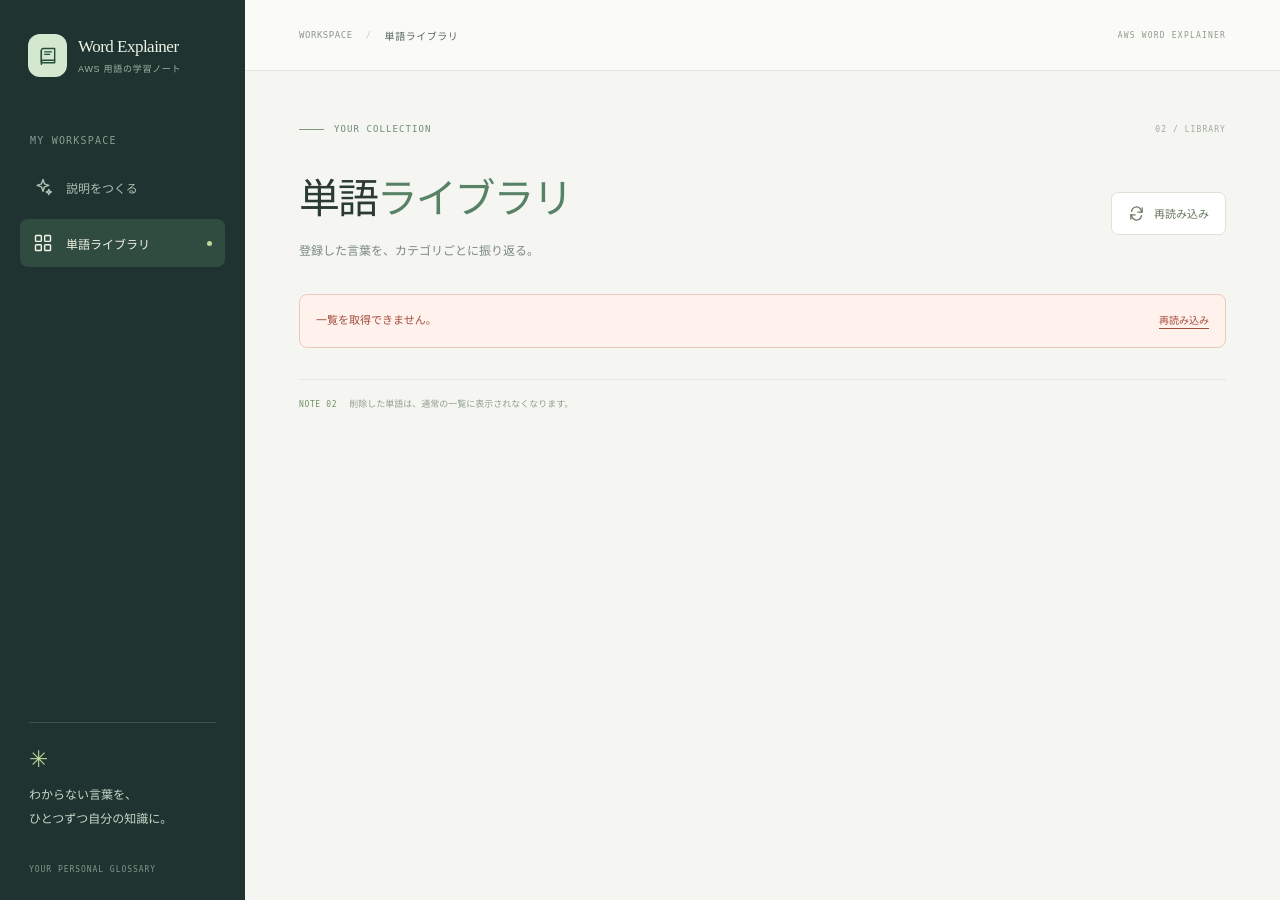
カテゴリ別一覧と削除 › 読み込み失敗と空データを区別し、再読み込みで復旧できる
This screenshot has width=1280, height=900.
Expected: the message shows "一覧を取得できません。", [316,314,437,326]
Click the button "再読み込み" in the row of "一覧を取得できません。". click: (1184, 321)
box: [1159,308,1209,334]
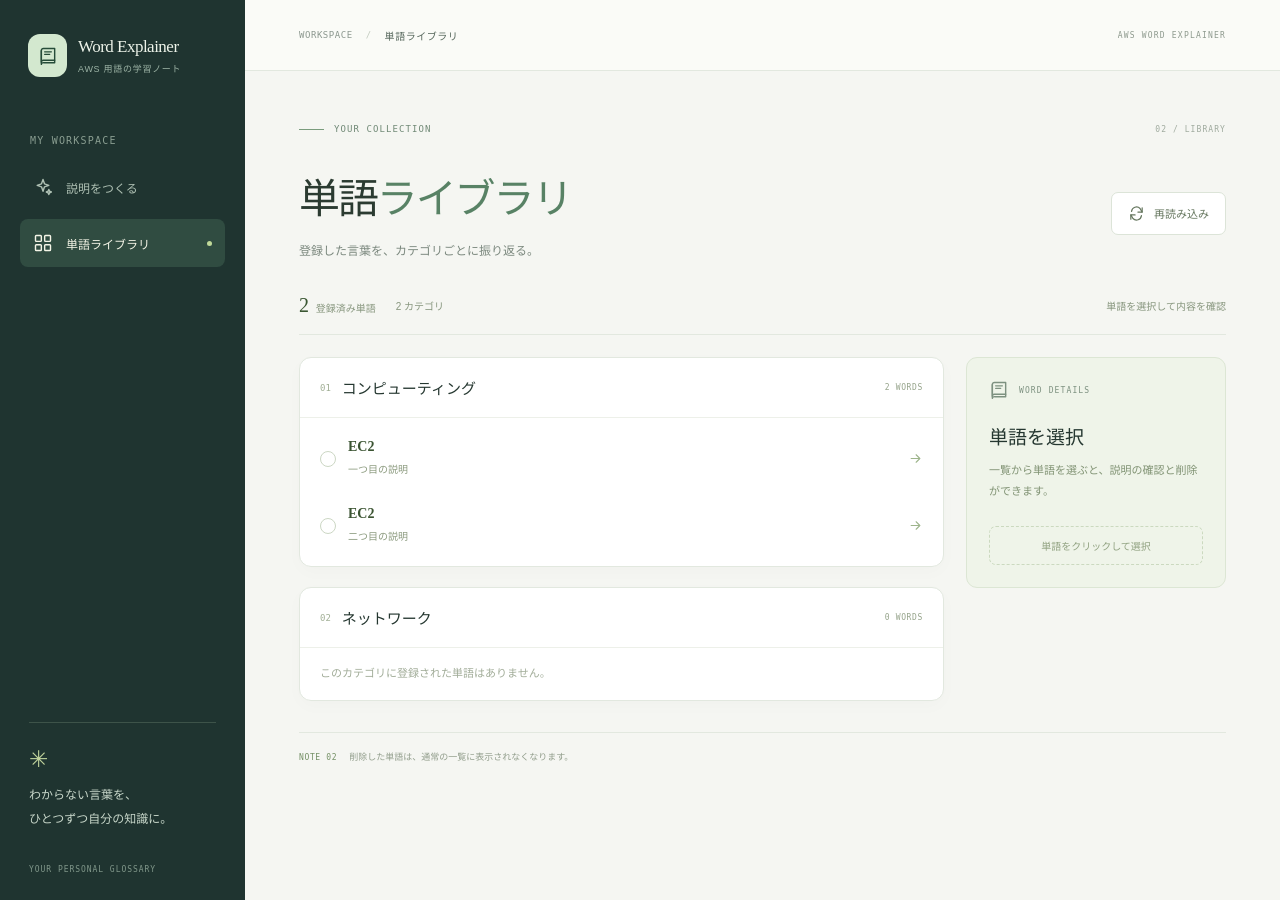
Expected: the button "EC2 一つ目の説明" is shown, [307,425,936,492]
Expected: the message "一覧を取得できません。 再読み込み" is gone
